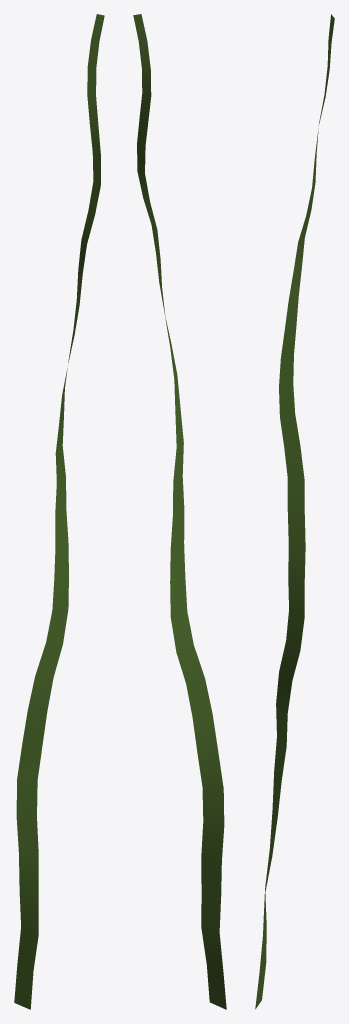
The model's file is plant_swamp_kelp_long_solo_F.fbx.
The picture shows the model from 3 angles, left to right: view 1: azimuth 30°, elevation 25°; view 2: azimuth 210°, elevation 25°; view 3: azimuth 330°, elevation 25°; orthographic projection. The views are drawn at different scales.
Parts seen in each view (by area): view 1: plant_swamp_kelp_long_solo_F; view 2: plant_swamp_kelp_long_solo_F; view 3: plant_swamp_kelp_long_solo_F.
Part boxes in pixels (left/top/right/bottom): plant_swamp_kelp_long_solo_F: left=14, top=14, right=104, bottom=1009; plant_swamp_kelp_long_solo_F: left=133, top=14, right=226, bottom=1009; plant_swamp_kelp_long_solo_F: left=255, top=14, right=334, bottom=1009.
Size of the model in its own units: 26.98 by 313 by 14.09.
